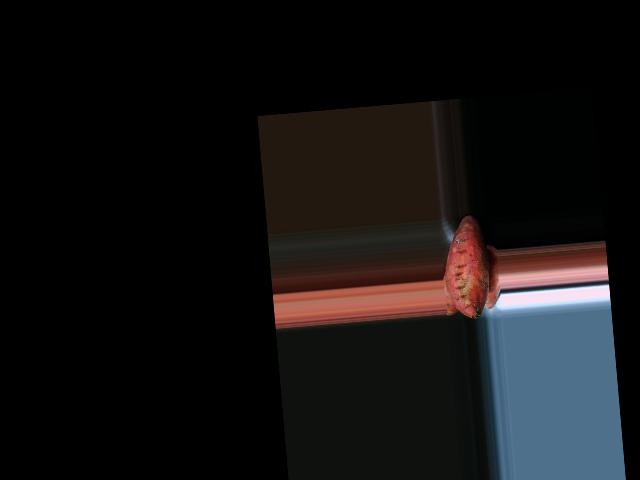sweet_potato: (444, 215, 489, 320)
